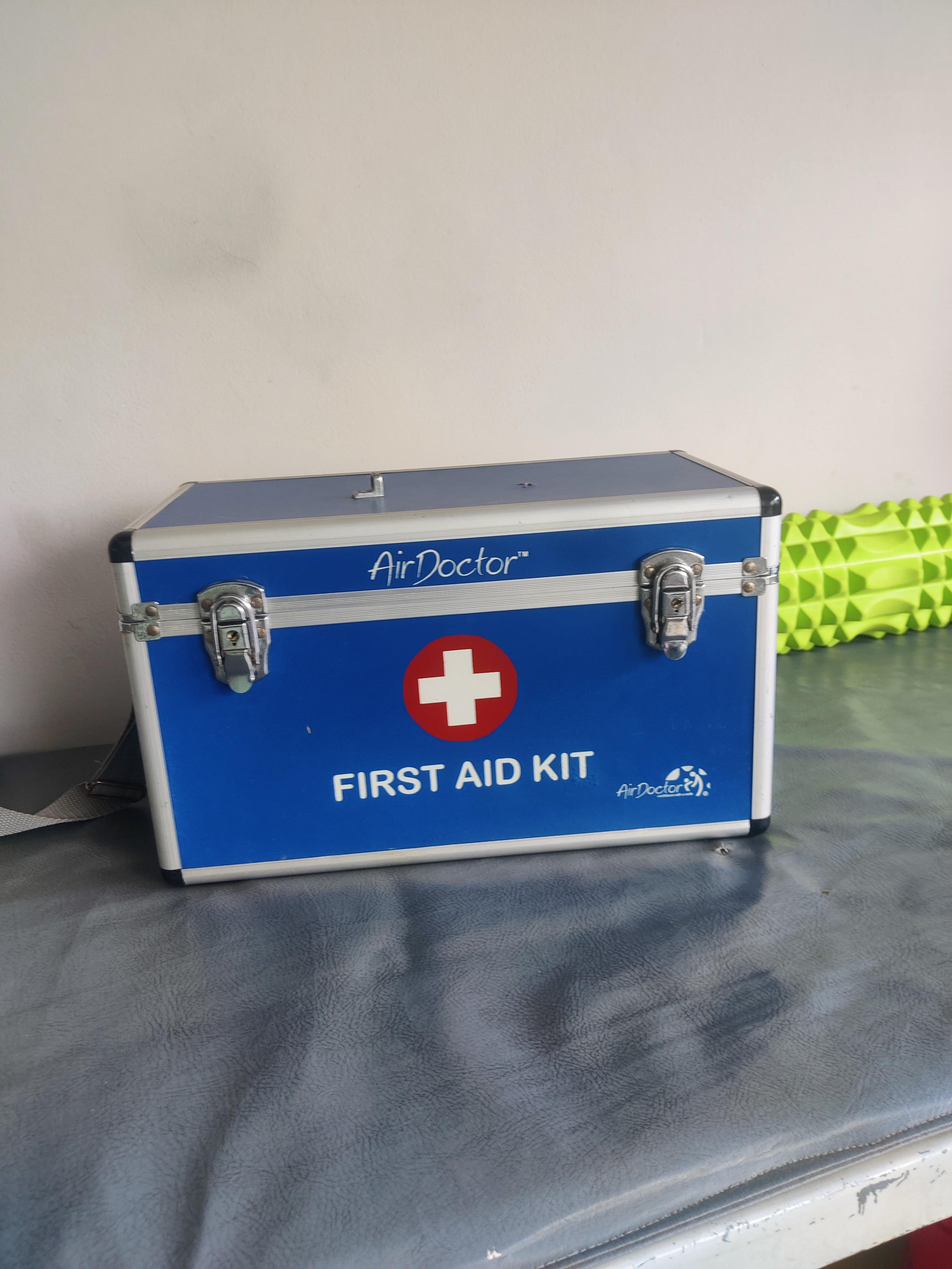FirstAidBox: (87, 418, 804, 927)
